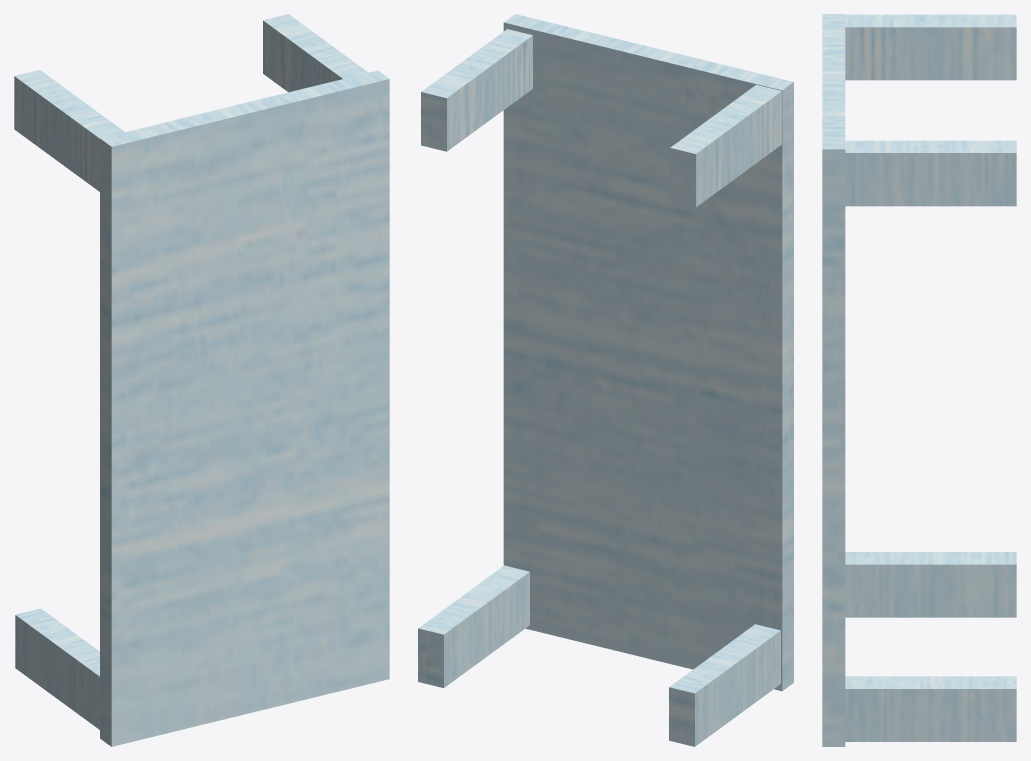
File: table.obj
The picture shows the model from 3 angles, left to right: view 1: azimuth 30°, elevation 25°; view 2: azimuth 150°, elevation 25°; view 3: azimuth 270°, elevation 25°; orthographic projection.
Parts seen in each view (by area): view 1: Cube.002_Cube.001; view 2: Cube.002_Cube.001; view 3: Cube.002_Cube.001.
Part boxes in pixels (box(x1,y1,x2,y2)): Cube.002_Cube.001: box(14, 14, 389, 746); Cube.002_Cube.001: box(418, 14, 793, 746); Cube.002_Cube.001: box(822, 14, 1016, 746).
Bounding box in the file's own units: 0.6929 × 1.43 × 0.4211.
1 material, 1 textured.
